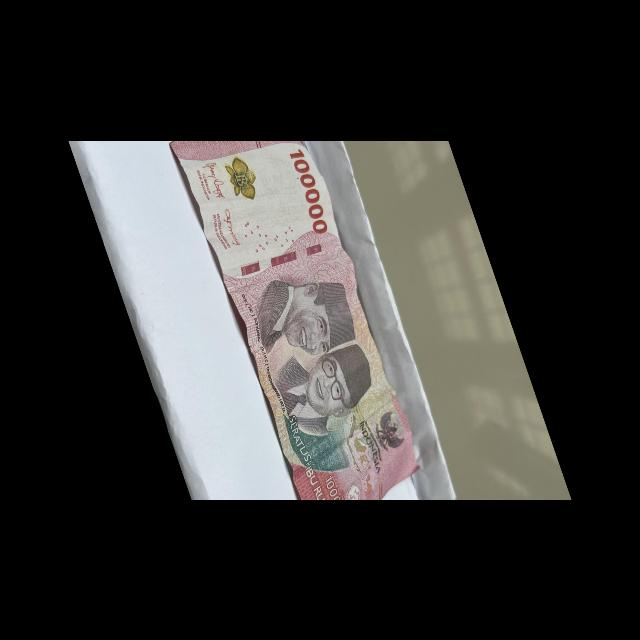Palsu-100k: (167, 96, 429, 523)
Tinta-Palsu-100k: (221, 150, 264, 205)
